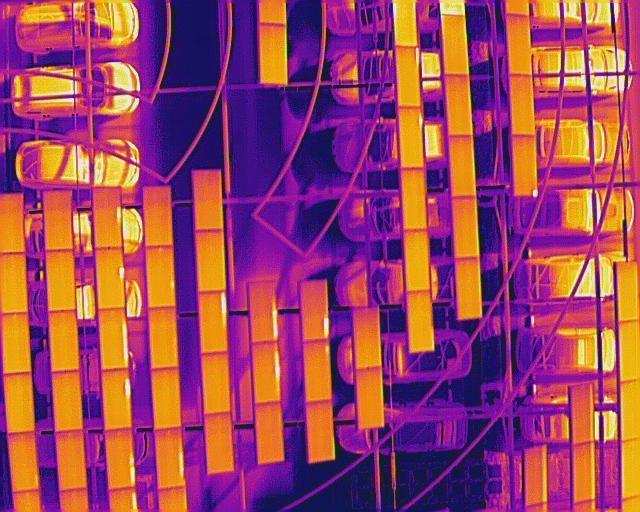Cell: (92, 186, 122, 248), (98, 248, 128, 308), (148, 246, 176, 308), (305, 340, 331, 402), (512, 136, 538, 196), (399, 107, 425, 167)
No-Anomaly: (198, 352, 231, 413), (192, 168, 224, 230), (0, 312, 32, 373), (48, 311, 80, 372), (52, 370, 83, 432), (7, 432, 39, 492), (55, 430, 87, 490), (151, 368, 183, 428), (46, 250, 77, 311), (205, 411, 235, 473), (196, 230, 226, 292), (5, 373, 36, 432), (255, 401, 284, 464), (145, 185, 174, 247), (454, 259, 483, 320), (0, 252, 29, 313), (446, 75, 474, 138), (44, 189, 73, 249), (150, 307, 178, 368), (407, 291, 435, 352), (406, 230, 433, 293), (354, 304, 380, 369), (441, 16, 470, 74), (358, 366, 385, 428), (259, 26, 287, 84), (308, 401, 335, 461), (509, 75, 536, 135), (402, 168, 428, 230), (524, 444, 548, 508), (508, 15, 533, 75), (0, 193, 25, 253), (452, 137, 476, 199), (615, 261, 639, 322), (572, 441, 594, 506), (456, 197, 479, 259), (571, 383, 593, 446), (396, 0, 419, 46)
Unclassified: (155, 428, 188, 489), (99, 308, 131, 370), (105, 427, 136, 490), (198, 292, 229, 354), (103, 368, 132, 431), (301, 278, 330, 341), (252, 342, 281, 403), (251, 281, 278, 343), (397, 47, 422, 107)
